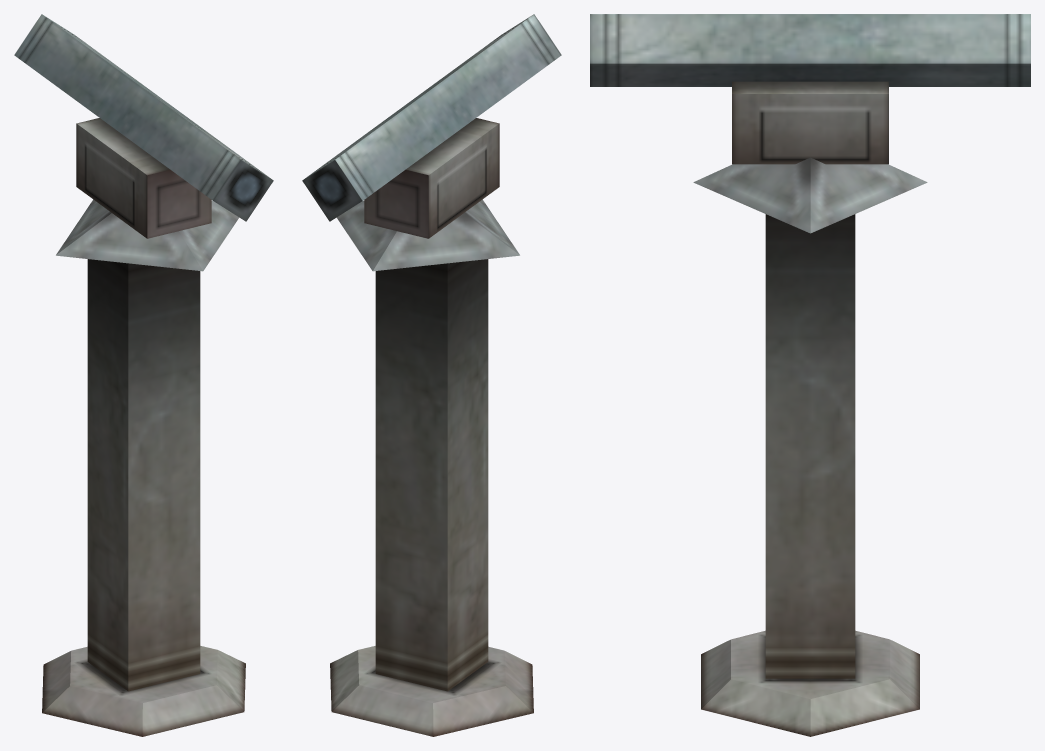
Rendered from Binoculars.fbx.
The picture shows the model from 3 angles, left to right: view 1: azimuth 30°, elevation 25°; view 2: azimuth 150°, elevation 25°; view 3: azimuth 270°, elevation 25°; orthographic projection. The views are drawn at different scales.
Visible parts, largest first — view 1: Binoculars5; view 2: Binoculars5; view 3: Binoculars5.
Boxes of the visible parts, left/top/right/bottom form: Binoculars5: left=14, top=14, right=273, bottom=736; Binoculars5: left=302, top=14, right=561, bottom=736; Binoculars5: left=590, top=14, right=1030, bottom=736.
Bounding box in the file's own units: 0.3502 × 0.9878 × 0.5922.
